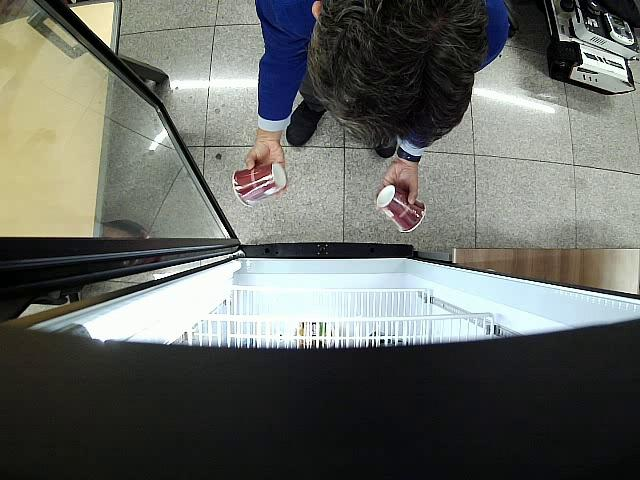00_hand: (245, 134, 288, 199), (376, 156, 418, 206)
06_nuguri_S: (375, 184, 426, 232), (233, 161, 286, 207)
